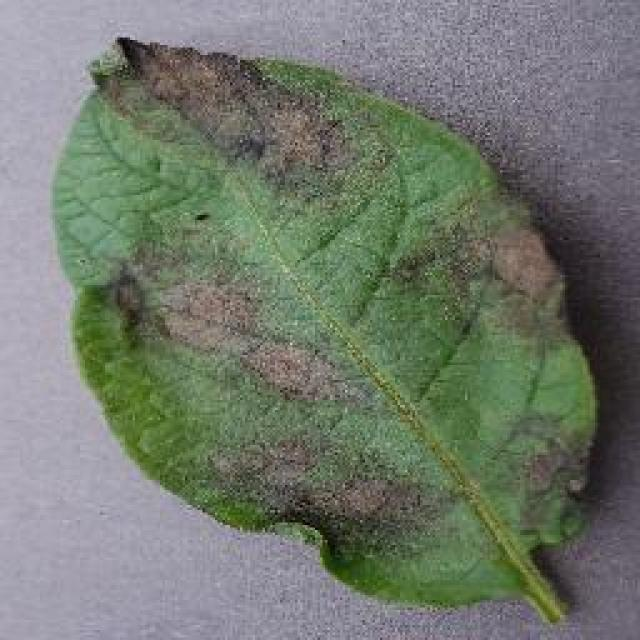green waste: (35, 39, 603, 631)
